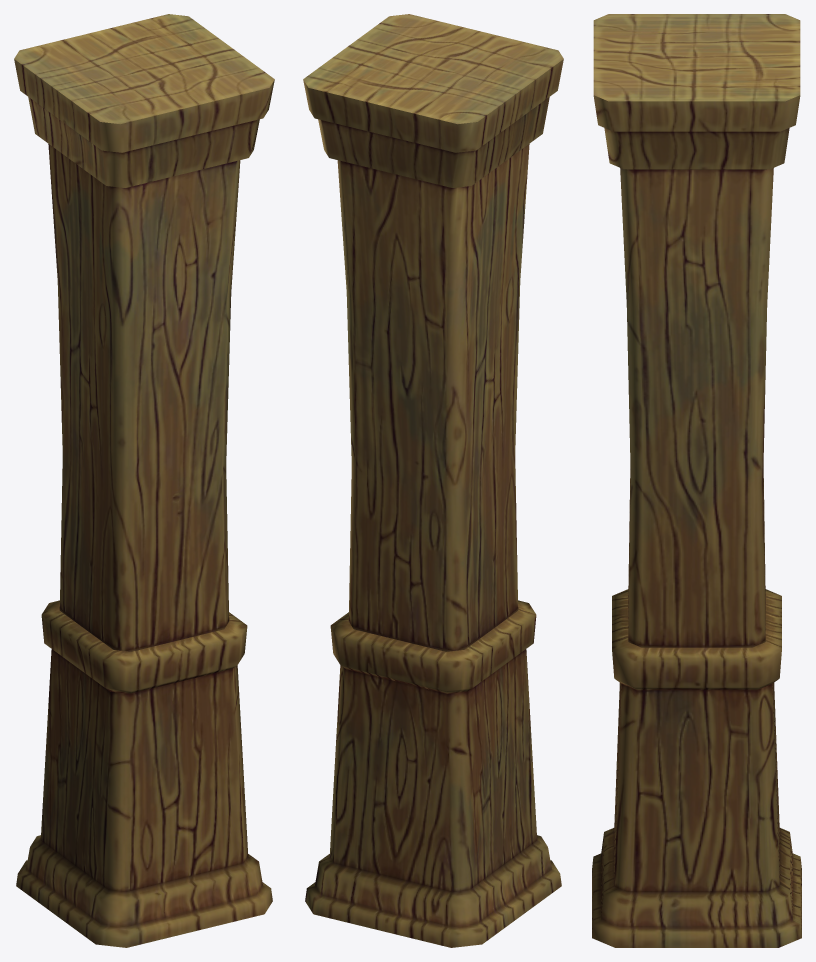
Rendered from Pillar.fbx.
The picture shows the model from 3 angles, left to right: view 1: azimuth 30°, elevation 25°; view 2: azimuth 150°, elevation 25°; view 3: azimuth 270°, elevation 25°; orthographic projection. The views are drawn at different scales.
Parts seen in each view (by area): view 1: Wall_Edge_low; view 2: Wall_Edge_low; view 3: Wall_Edge_low.
Boxes of the visible parts, <box> form: Wall_Edge_low: <box>14,14,274,947</box>; Wall_Edge_low: <box>303,14,563,947</box>; Wall_Edge_low: <box>592,14,801,947</box>.
Size of the model in its own units: 54.96 by 245 by 54.96.
1 material, 1 textured.
